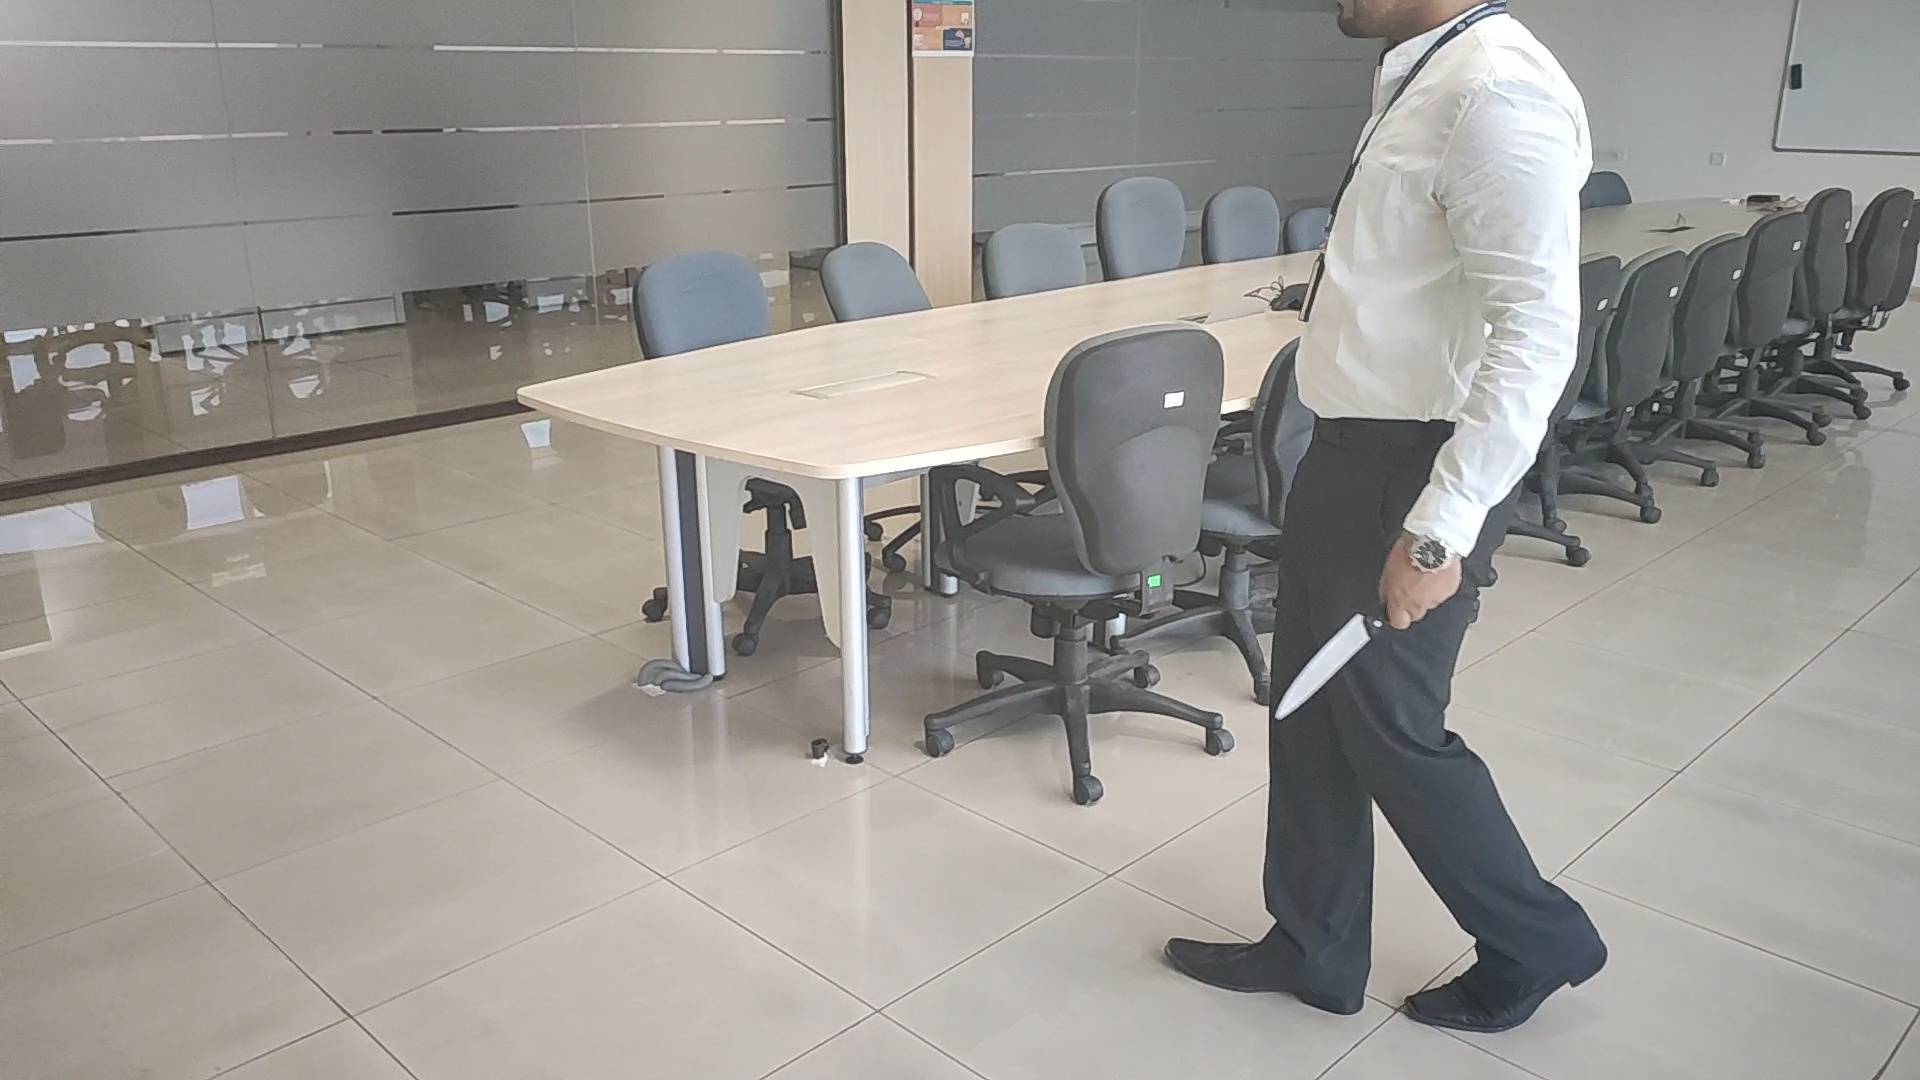knife: (1270, 604, 1389, 723)
